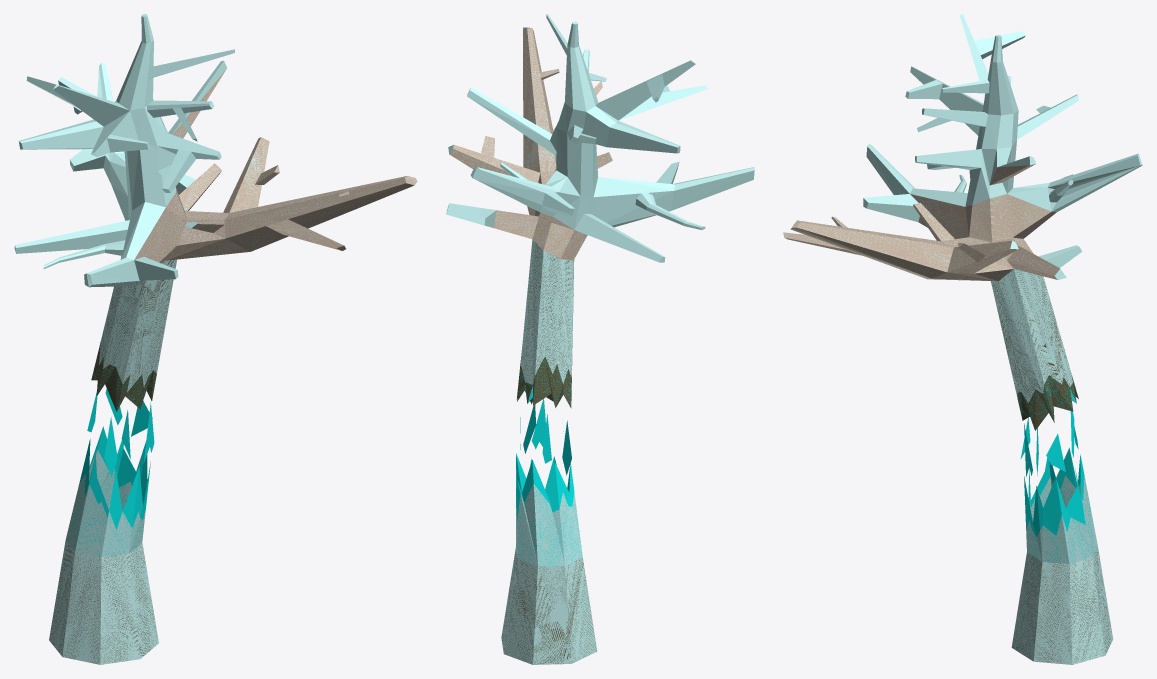
The model's file is Tree_Crystal_Magic_01.fbx.
The picture shows the model from 3 angles, left to right: view 1: azimuth 30°, elevation 25°; view 2: azimuth 150°, elevation 25°; view 3: azimuth 270°, elevation 25°; orthographic projection. The views are drawn at different scales.
Parts seen in each view (by area): view 1: Model; view 2: Model; view 3: Model.
Part boxes in pixels (x1,y1,x2,y2): Model: (14,14,417,664); Model: (446,14,754,664); Model: (783,14,1142,664).
Size of the model in its own units: 1201 by 2558 by 1365.
